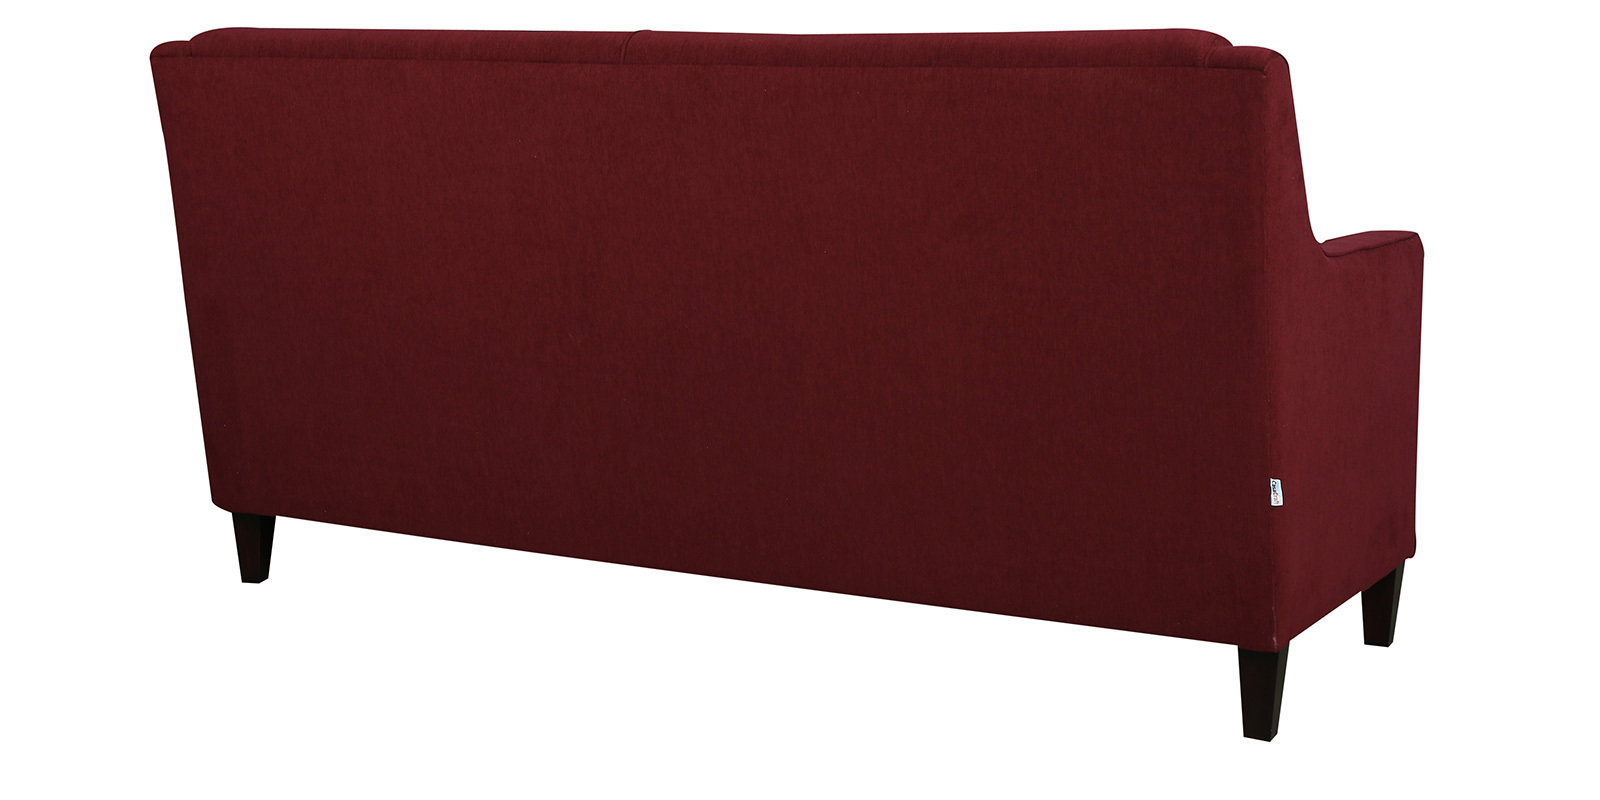Oscar Three Seater Sofa in Garnet Red Colour by CasaCraft: (148, 24, 1423, 742)
